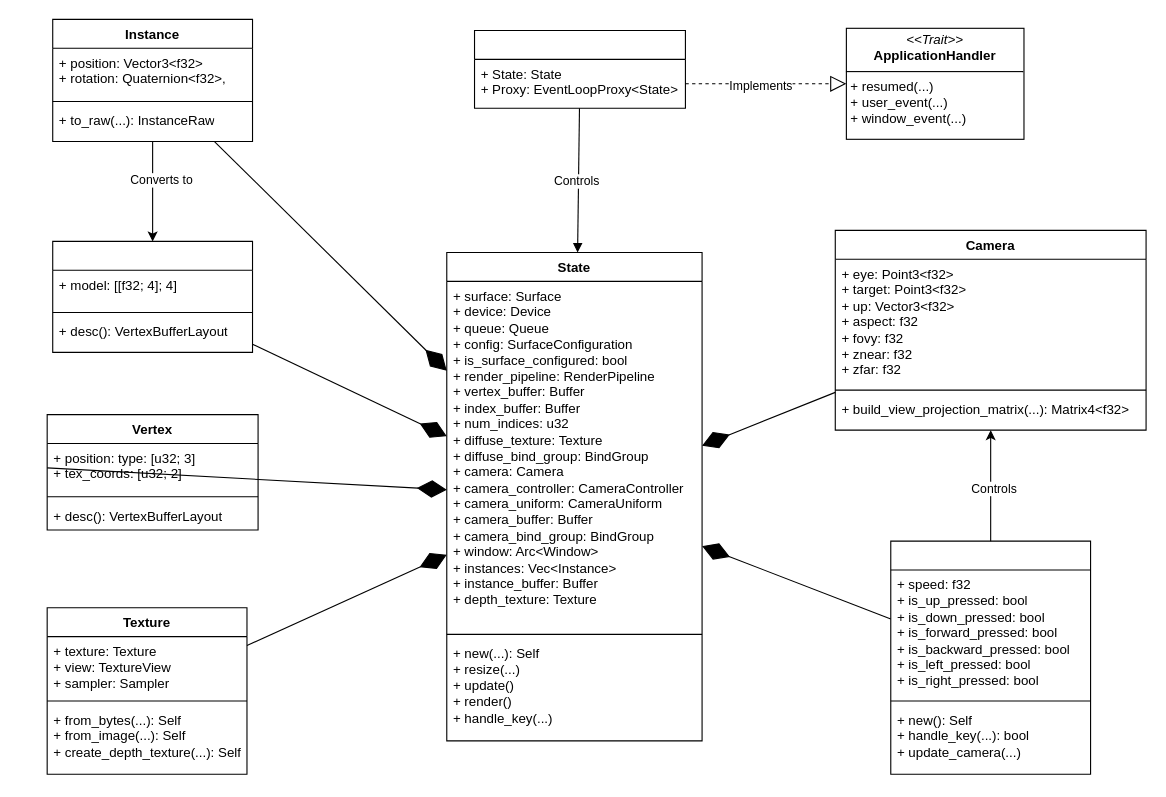
Some shapes in this 1166 by 797 pixel diagram are drawn without their labels. The box of each missing label's shape, as (x1, y1, x2, y2) in pixels:
App: (473, 29, 685, 108)
CameraController: (890, 540, 1091, 774)
InstanceRaw: (52, 240, 253, 352)
